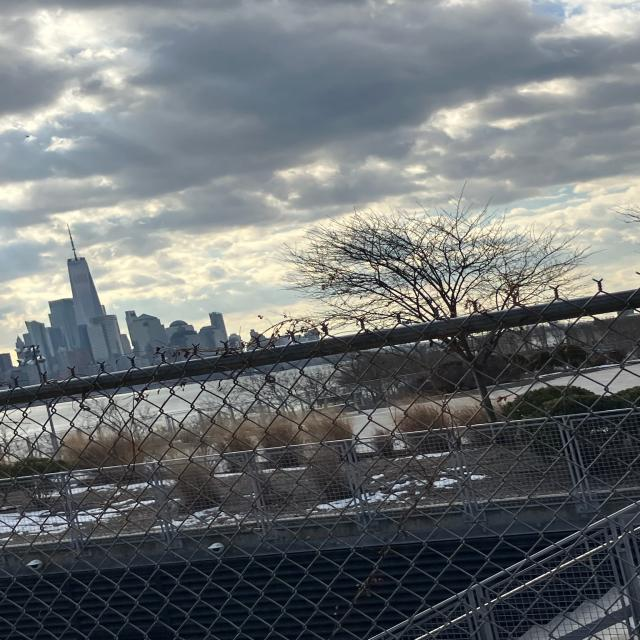WTC: (58, 224, 105, 321)
